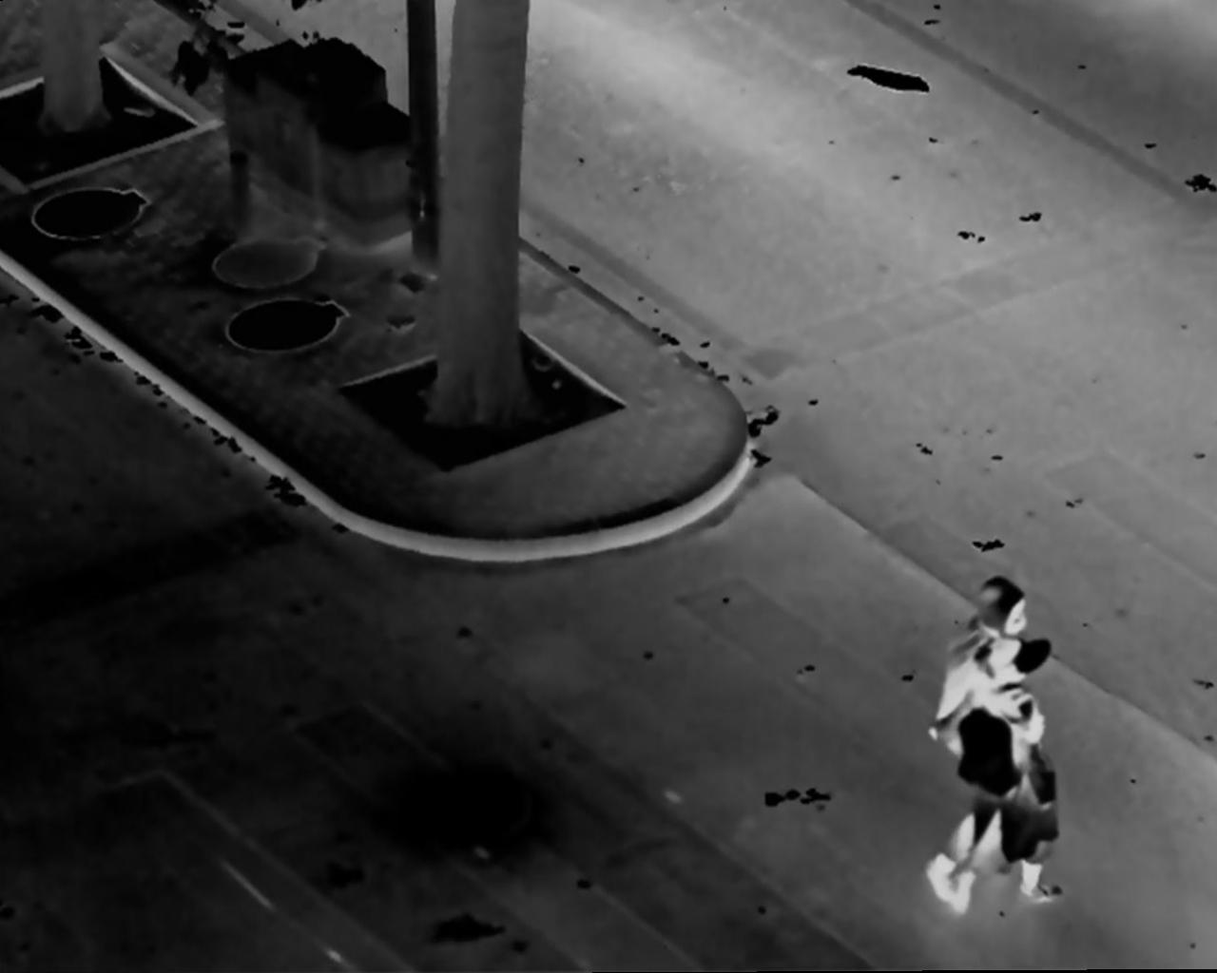person: (925, 571, 1033, 903), (957, 635, 1060, 919)
